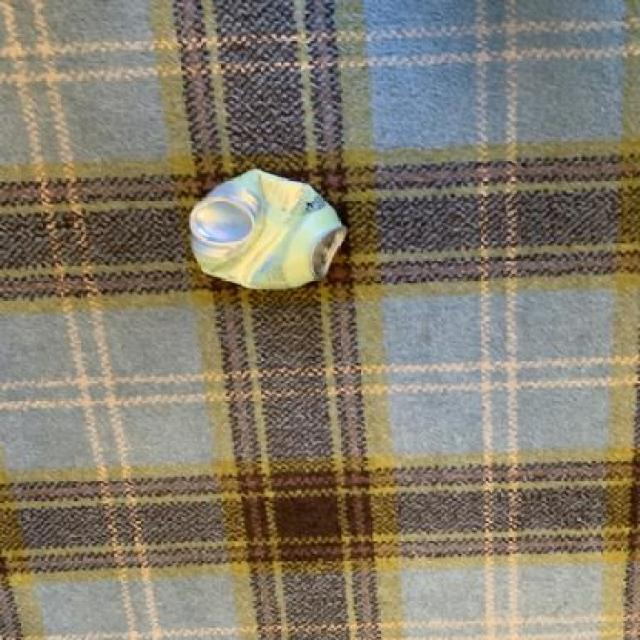trash: (177, 169, 352, 297)
